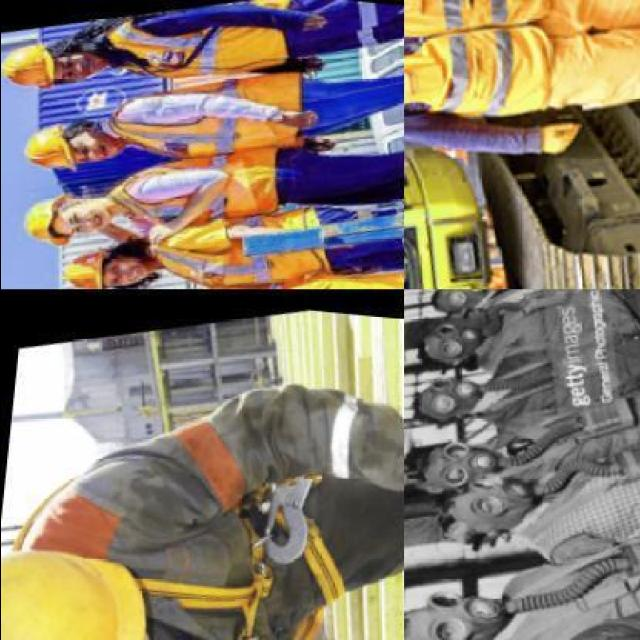helmet: (0, 40, 55, 102), (14, 126, 84, 174), (24, 183, 70, 256), (60, 247, 112, 290)
